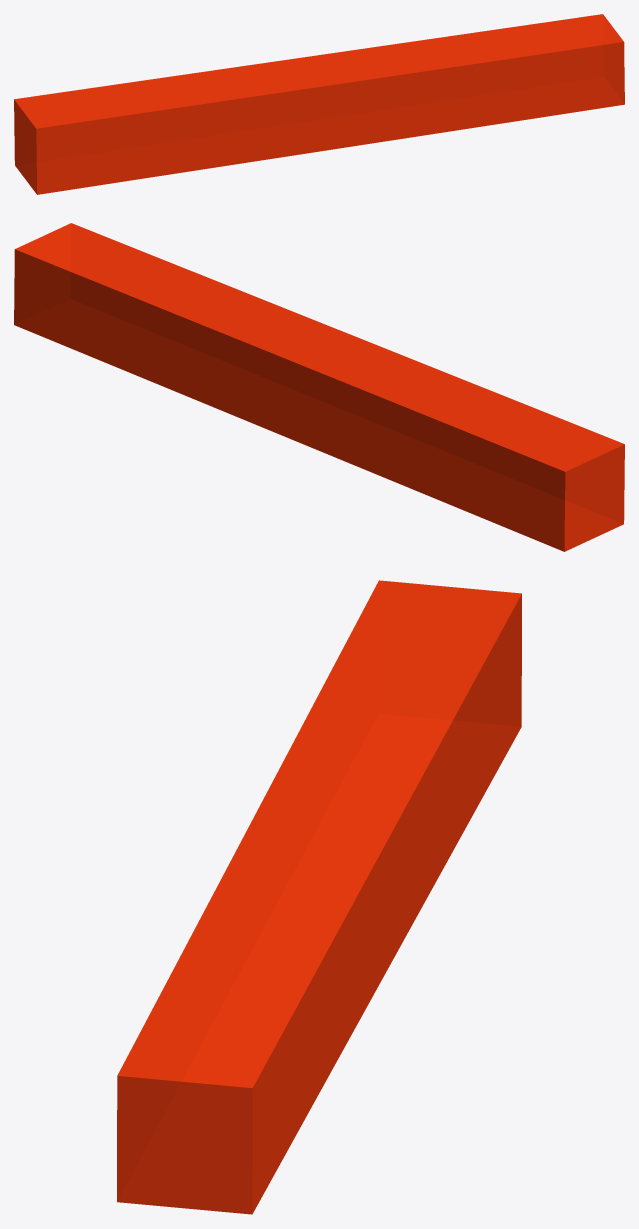
The model's file is Event_421127236_EErechit_14.fbx.
3 renders of one model, top to bottom at view 1: azimuth 30°, elevation 25°; view 2: azimuth 150°, elevation 25°; view 3: azimuth 270°, elevation 25°, orthographic. The views are drawn at different scales.
Parts seen in each view (by area): view 1: Model; view 2: Model; view 3: Model.
Boxes of the visible parts, bbox=[...] form: Model: bbox=[14, 14, 624, 194]; Model: bbox=[14, 223, 624, 551]; Model: bbox=[117, 580, 521, 1214].
Size of the model in its own units: 0.6478 by 0.085 by 0.212.
